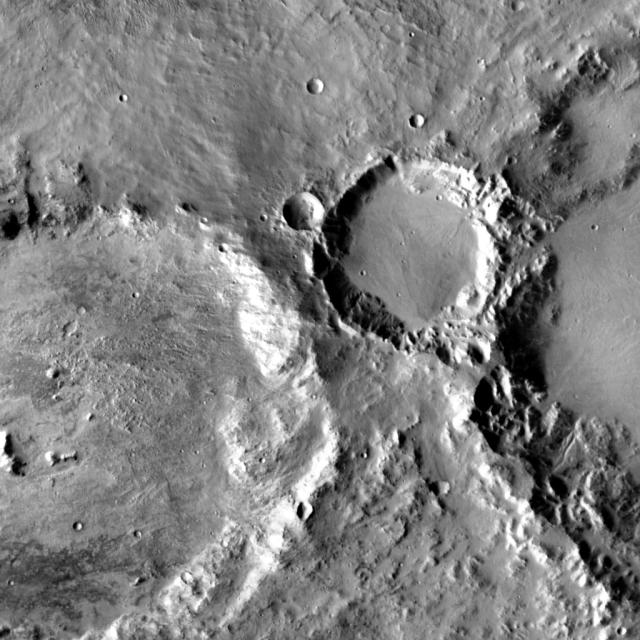crater: (0, 181, 327, 640), (318, 157, 516, 338), (288, 190, 328, 228), (437, 478, 455, 494), (300, 501, 318, 516), (311, 76, 328, 90), (412, 110, 428, 124), (184, 570, 197, 581), (514, 0, 528, 10), (222, 240, 232, 250), (528, 618, 538, 628), (76, 521, 86, 530), (80, 304, 90, 313), (122, 92, 132, 100), (386, 22, 396, 30), (621, 626, 631, 634), (137, 529, 145, 537), (264, 210, 272, 218), (127, 297, 135, 304), (512, 156, 520, 163)
